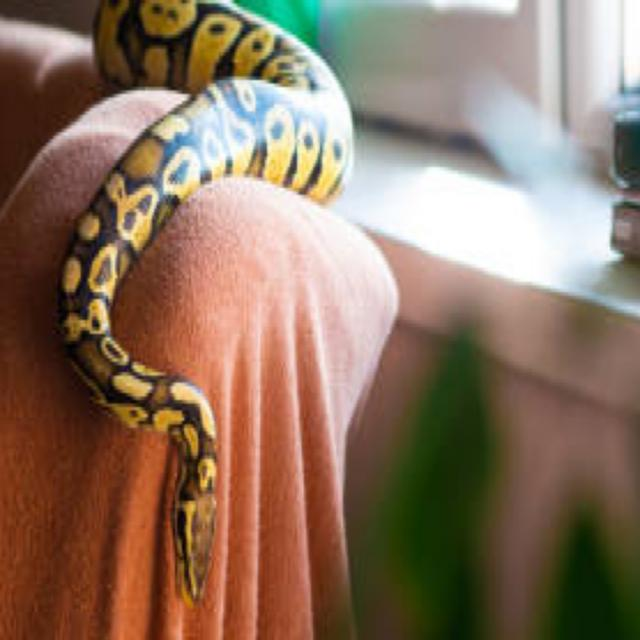Snake: (55, 0, 357, 605)
